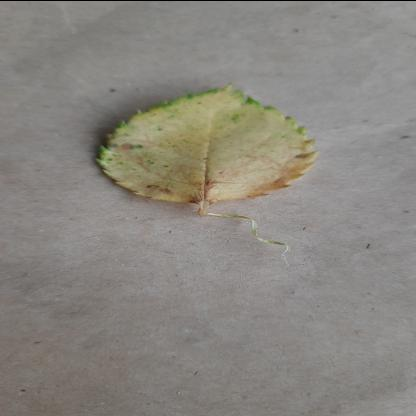black-spot: (98, 82, 318, 206)
